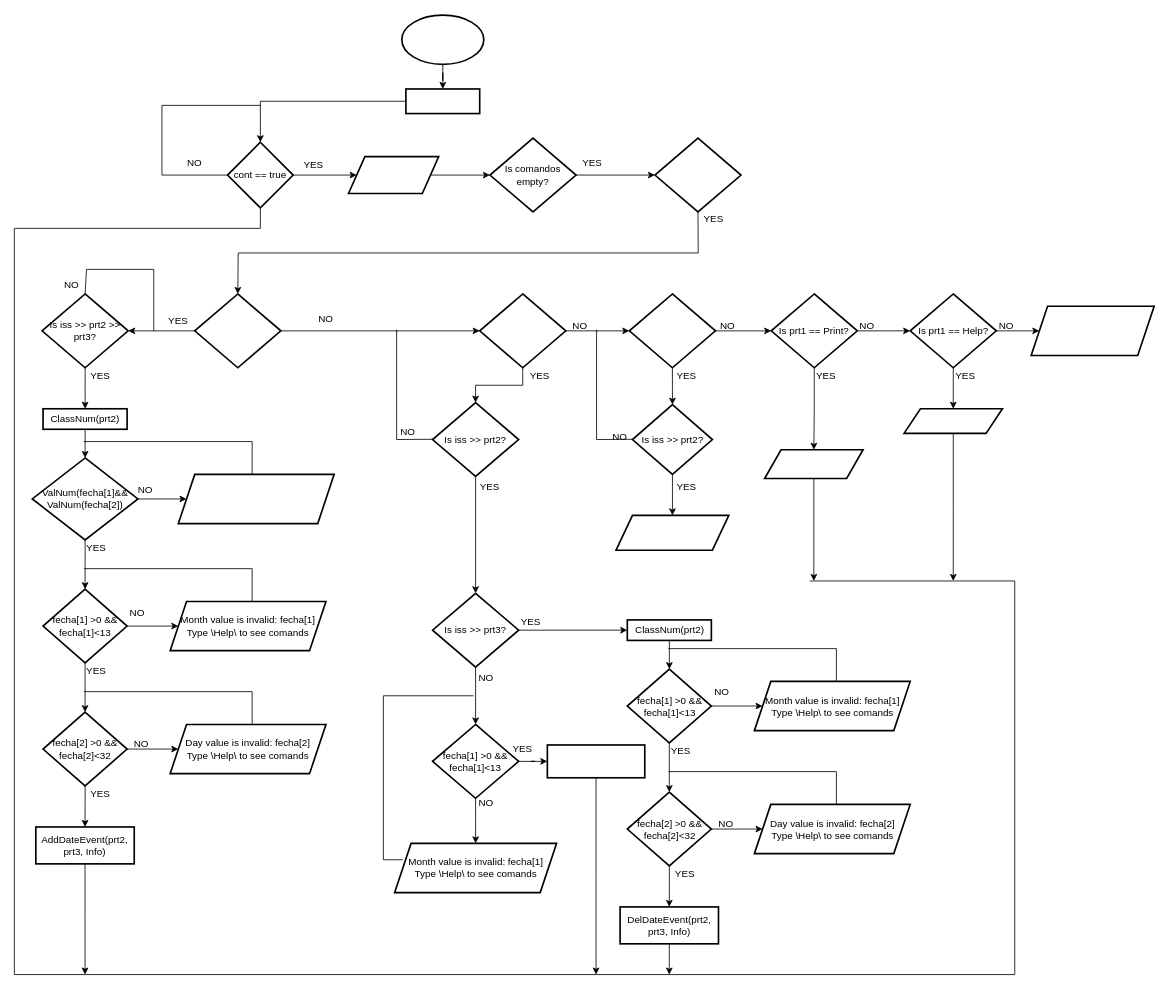
This 1169x995 diagram has some shape labels left out. The shapes that lost their labels are listed below. From the top down, each one's centre as x and y in pixels, then its label:
At (x=442, y=101): "cont = true".
At (x=393, y=174): "comandos".
At (x=697, y=174): "Is iss >> prt1?".
At (x=237, y=330): "Is prt1 == Add?".
At (x=522, y=330): "Is prt1 == Del?".
At (x=672, y=330): "Is prt1 == Find?".
At (x=1092, y=330): "Unknown command: Type /Help/ to see commands".
At (x=953, y=421): "Help()".
At (x=813, y=464): "Print(Info)".
At (x=256, y=498): "Wrong date format: Type \Help\ to see comands".
At (x=672, y=532): "FindDate(ptr2, Info)".
At (x=595, y=761): "DelDate(prt2. Info)".
